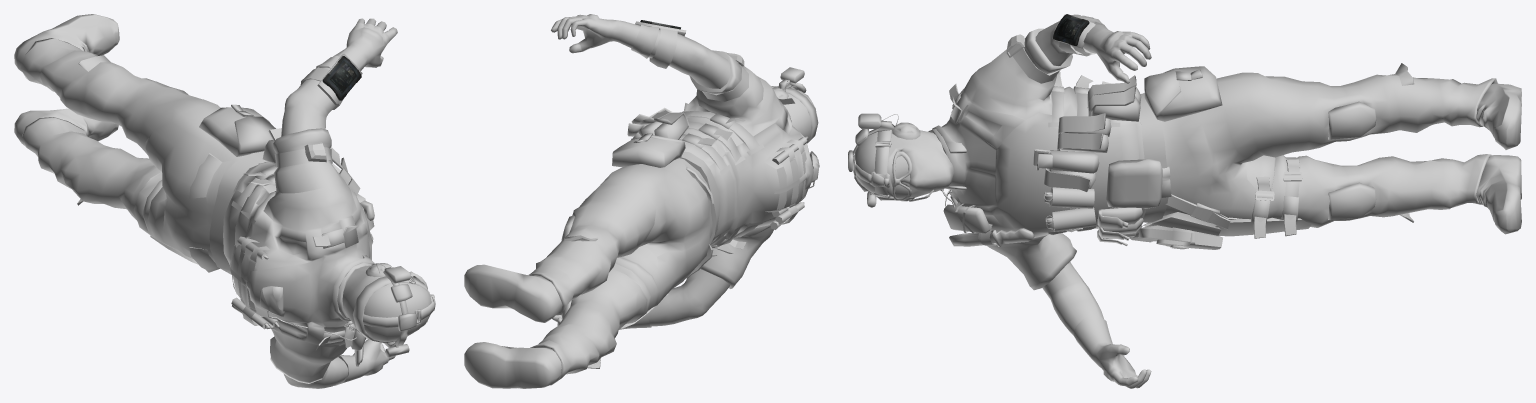
The model's file is c_mul_mp_pmc_smg_fb_LOD0.obj.
3 renders of one model, left to right at view 1: azimuth 30°, elevation 25°; view 2: azimuth 150°, elevation 25°; view 3: azimuth 270°, elevation 25°, orthographic. The views are drawn at different scales.
Parts seen in each view (by area): view 1: mtl_c_mul_mp_pmc_lbr_2_1, mtl_c_mul_mp_pmc_upperbody2, mtl_c_mul_mp_pmc_smg_gear, mtl_c_mul_mp_pmc_gear_main_1, mtl_c_mul_mp_pmc_balaclava, mtl_c_mul_mp_pmc_gloves3, mtl_c_gen_arm_clean_brown, mtl_c_gen_mp_datapad, mtl_c_mul_mp_pmc_helmet1; view 2: mtl_c_mul_mp_pmc_lbr_2_1, mtl_c_mul_mp_pmc_upperbody2, mtl_c_mul_mp_pmc_gear_main_1, mtl_c_mul_mp_pmc_smg_gear, mtl_c_gen_arm_clean_brown, mtl_c_mul_mp_pmc_gloves3, mtl_c_mul_mp_pmc_balaclava; view 3: mtl_c_mul_mp_pmc_lbr_2_1, mtl_c_mul_mp_pmc_smg_gear, mtl_c_mul_mp_pmc_upperbody2, mtl_c_mul_mp_pmc_gear_main_1, mtl_c_mul_mp_pmc_balaclava, mtl_c_mul_mp_pmc_gloves3, mtl_c_gen_arm_clean_brown, mtl_c_mul_mp_pmc_glasses, mtl_c_gen_mp_datapad.
Boxes of the visible parts, x1,y1,x2,y2 form: mtl_c_mul_mp_pmc_lbr_2_1: (20, 38, 248, 272); mtl_c_mul_mp_pmc_upperbody2: (223, 161, 372, 383); mtl_c_mul_mp_pmc_smg_gear: (199, 53, 374, 274); mtl_c_mul_mp_pmc_gear_main_1: (14, 14, 374, 366); mtl_c_mul_mp_pmc_balaclava: (342, 263, 435, 357); mtl_c_mul_mp_pmc_gloves3: (333, 18, 397, 385); mtl_c_gen_arm_clean_brown: (281, 67, 347, 388); mtl_c_gen_mp_datapad: (322, 56, 361, 100); mtl_c_mul_mp_pmc_helmet1: (391, 284, 416, 331); mtl_c_mul_mp_pmc_lbr_2_1: (528, 158, 714, 385); mtl_c_mul_mp_pmc_upperbody2: (679, 50, 813, 288); mtl_c_mul_mp_pmc_gear_main_1: (464, 136, 819, 388); mtl_c_mul_mp_pmc_smg_gear: (612, 21, 763, 244); mtl_c_gen_arm_clean_brown: (648, 30, 730, 326); mtl_c_mul_mp_pmc_gloves3: (551, 14, 651, 329); mtl_c_mul_mp_pmc_balaclava: (771, 67, 818, 143); mtl_c_mul_mp_pmc_lbr_2_1: (1161, 63, 1497, 238); mtl_c_mul_mp_pmc_smg_gear: (986, 14, 1222, 249); mtl_c_mul_mp_pmc_upperbody2: (928, 28, 1144, 290); mtl_c_mul_mp_pmc_gear_main_1: (932, 83, 1521, 246); mtl_c_mul_mp_pmc_balaclava: (853, 113, 954, 207); mtl_c_mul_mp_pmc_gloves3: (1073, 24, 1151, 388); mtl_c_gen_arm_clean_brown: (1035, 14, 1103, 335); mtl_c_mul_mp_pmc_glasses: (892, 151, 912, 200); mtl_c_gen_mp_datapad: (1053, 14, 1089, 45).
Bounding box in the file's own units: 67.3 × 105 × 184.
